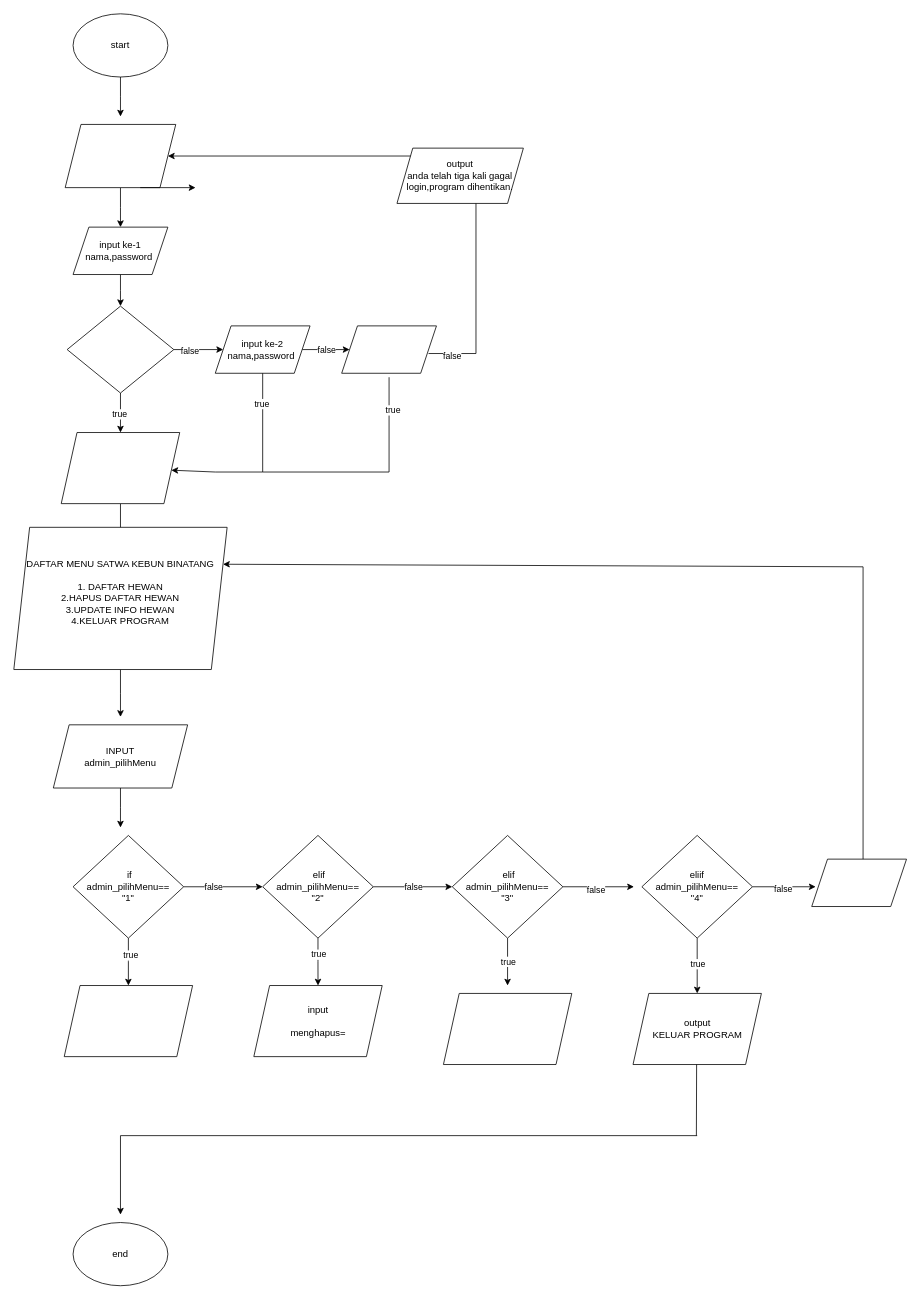
Image size: 920x1300. Some labels were removed from this diagram. Here are the shapes that lost their labels. From the top down, the centre of each, then its label:
point (120, 156): output "==LOGIN==" "masukan nama dan password anda"
point (120, 349): nama=erfandi password=123
point (388, 349): input ke-3 nama,password
point (120, 468): output "anda berhasil login,selamat datang"
point (859, 882): "pilihan tidak valid"
point (128, 1021): output/input nama hewan
point (507, 1029): input nama hewan_baru
